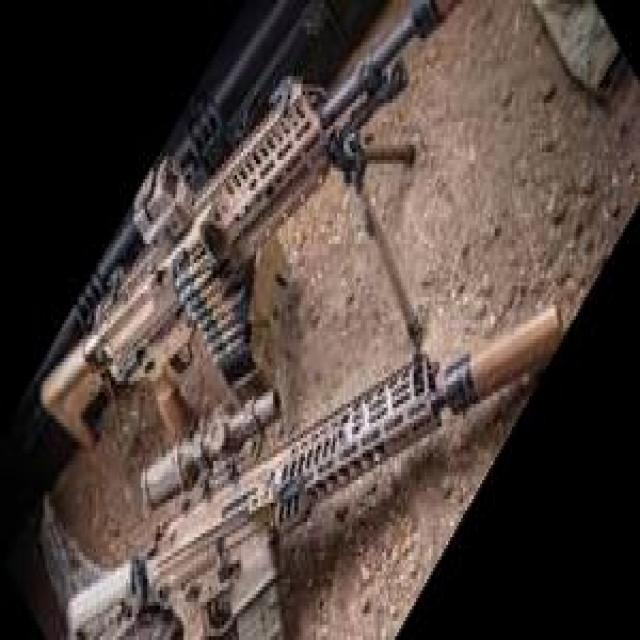weapon: (40, 0, 439, 454), (65, 300, 567, 640)
